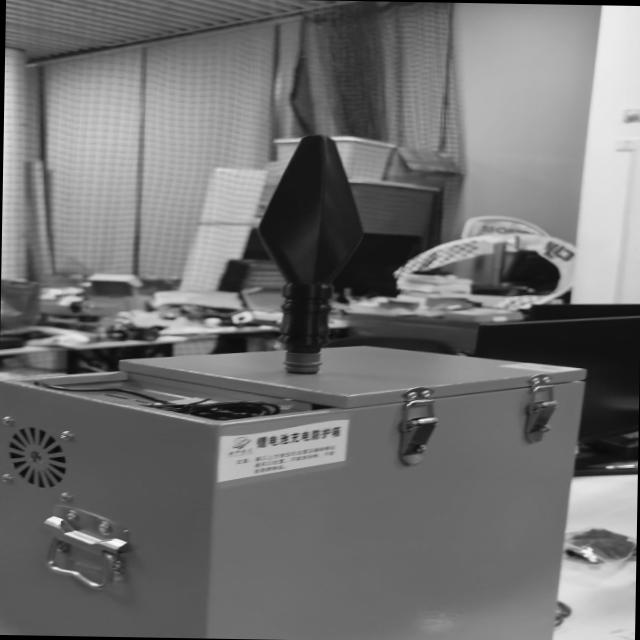base: (284, 348, 322, 374)
